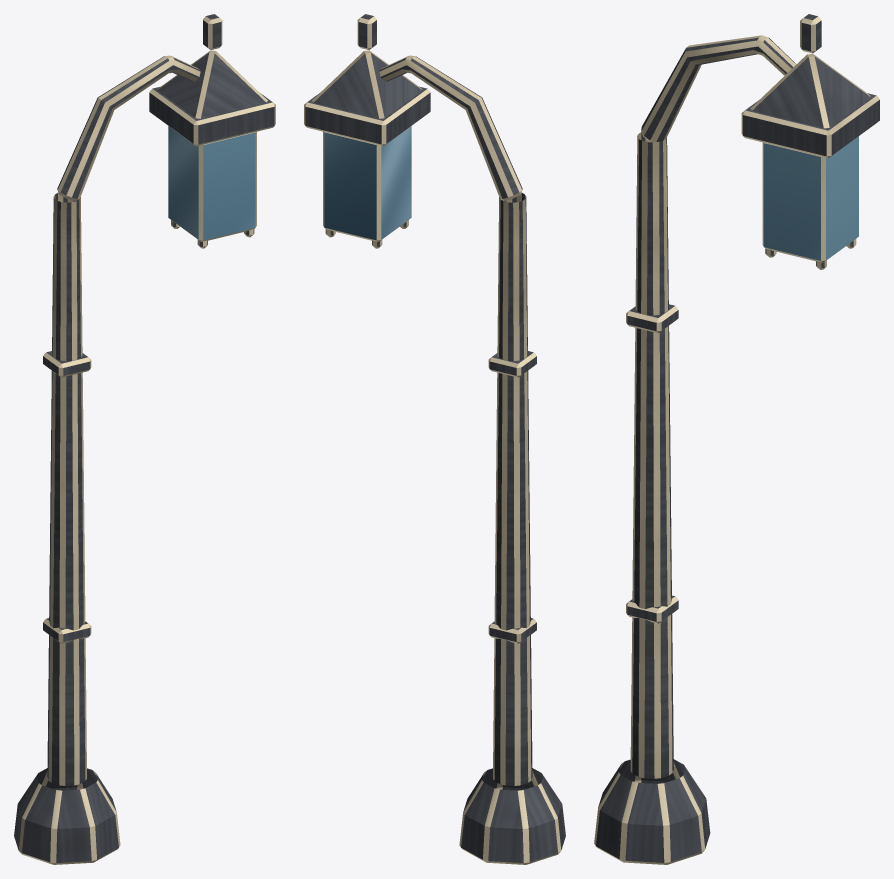
The model's file is Env_Lamp_Post.fbx.
3 renders of one model, left to right at view 1: azimuth 30°, elevation 25°; view 2: azimuth 150°, elevation 25°; view 3: azimuth 330°, elevation 25°, orthographic. The views are drawn at different scales.
Parts seen in each view (by area): view 1: Env_Lamp_Post; view 2: Env_Lamp_Post; view 3: Env_Lamp_Post.
Boxes of the visible parts, bbox=[...] form: Env_Lamp_Post: bbox=[14, 14, 275, 864]; Env_Lamp_Post: bbox=[304, 14, 565, 864]; Env_Lamp_Post: bbox=[594, 14, 879, 864].
Size of the model in its own units: 96.41 by 38.82 by 312.
